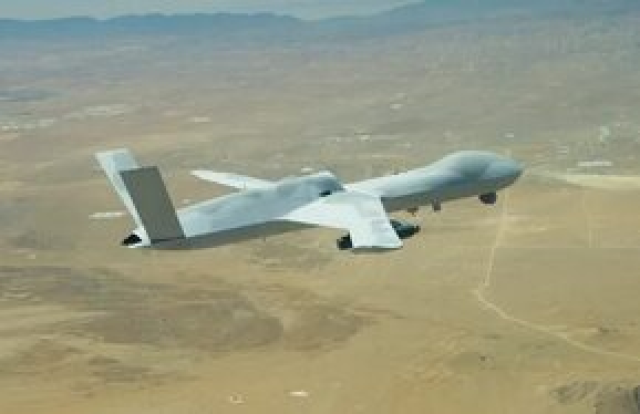military drone: (89, 147, 522, 255)
